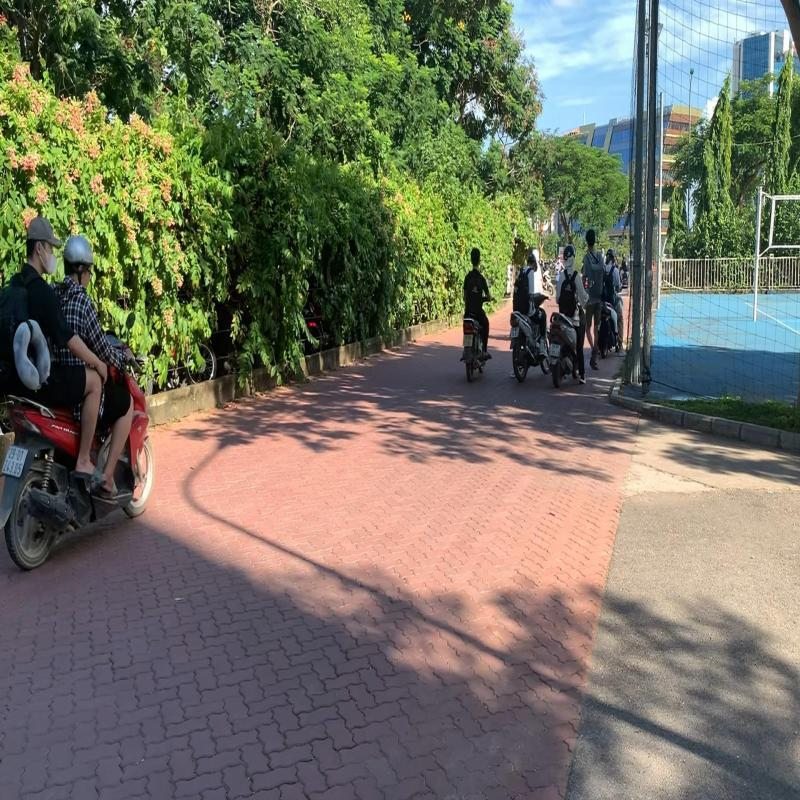nohelmet: (470, 246, 481, 267)
